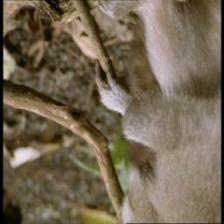monkey: (121, 139, 158, 184), (109, 194, 135, 223)
